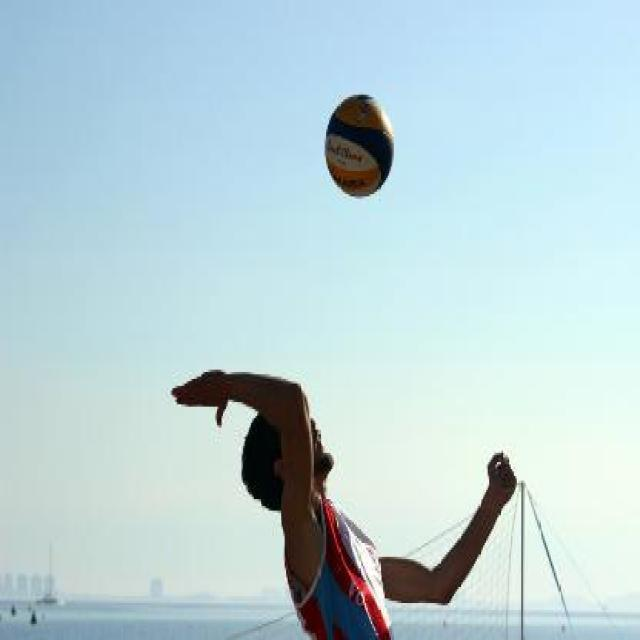volleyball: (324, 94, 394, 200)
